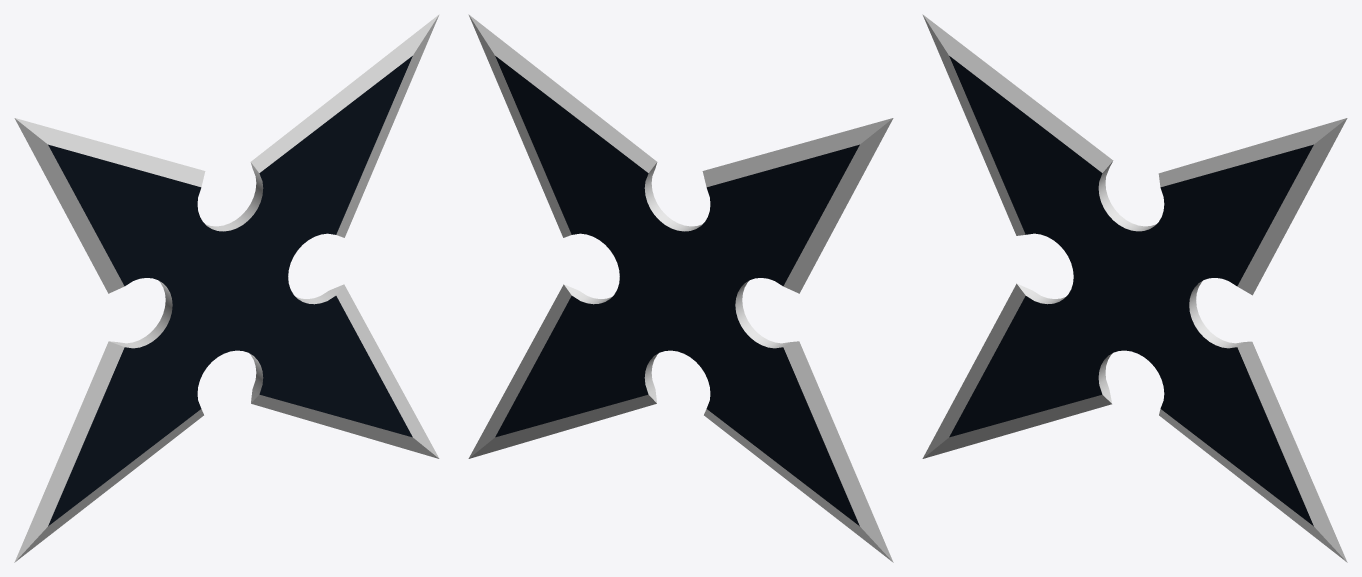
File: Shuriken_2.fbx
The picture shows the model from 3 angles, left to right: view 1: azimuth 30°, elevation 25°; view 2: azimuth 150°, elevation 25°; view 3: azimuth 330°, elevation 25°; orthographic projection.
Parts seen in each view (by area): view 1: Shuriken_2; view 2: Shuriken_2; view 3: Shuriken_2.
Part boxes in pixels (<box>): Shuriken_2: <box>14,14,439,562</box>; Shuriken_2: <box>468,14,893,562</box>; Shuriken_2: <box>922,14,1347,562</box>.
Size of the model in its own units: 1.95 by 1.95 by 0.0552.
